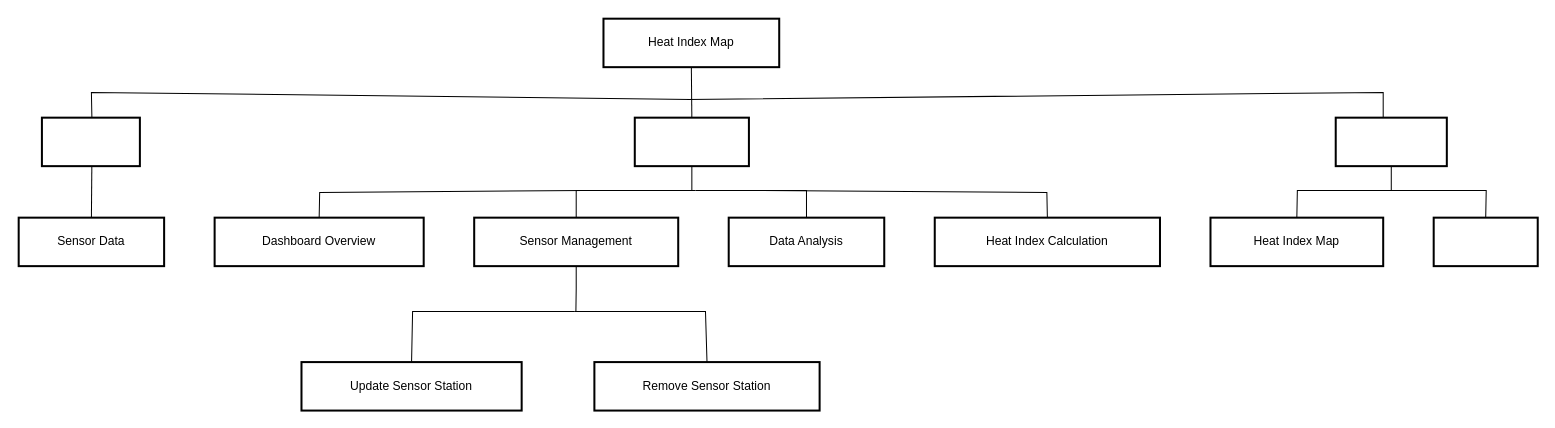
Image size: 1555x428. Some labels were removed from this diagram. Each missing label, with the box of its shape:
Alerts: (1432, 216, 1538, 267)
Input: (40, 116, 140, 167)
Output: (1334, 116, 1447, 167)
Process: (633, 116, 749, 167)
